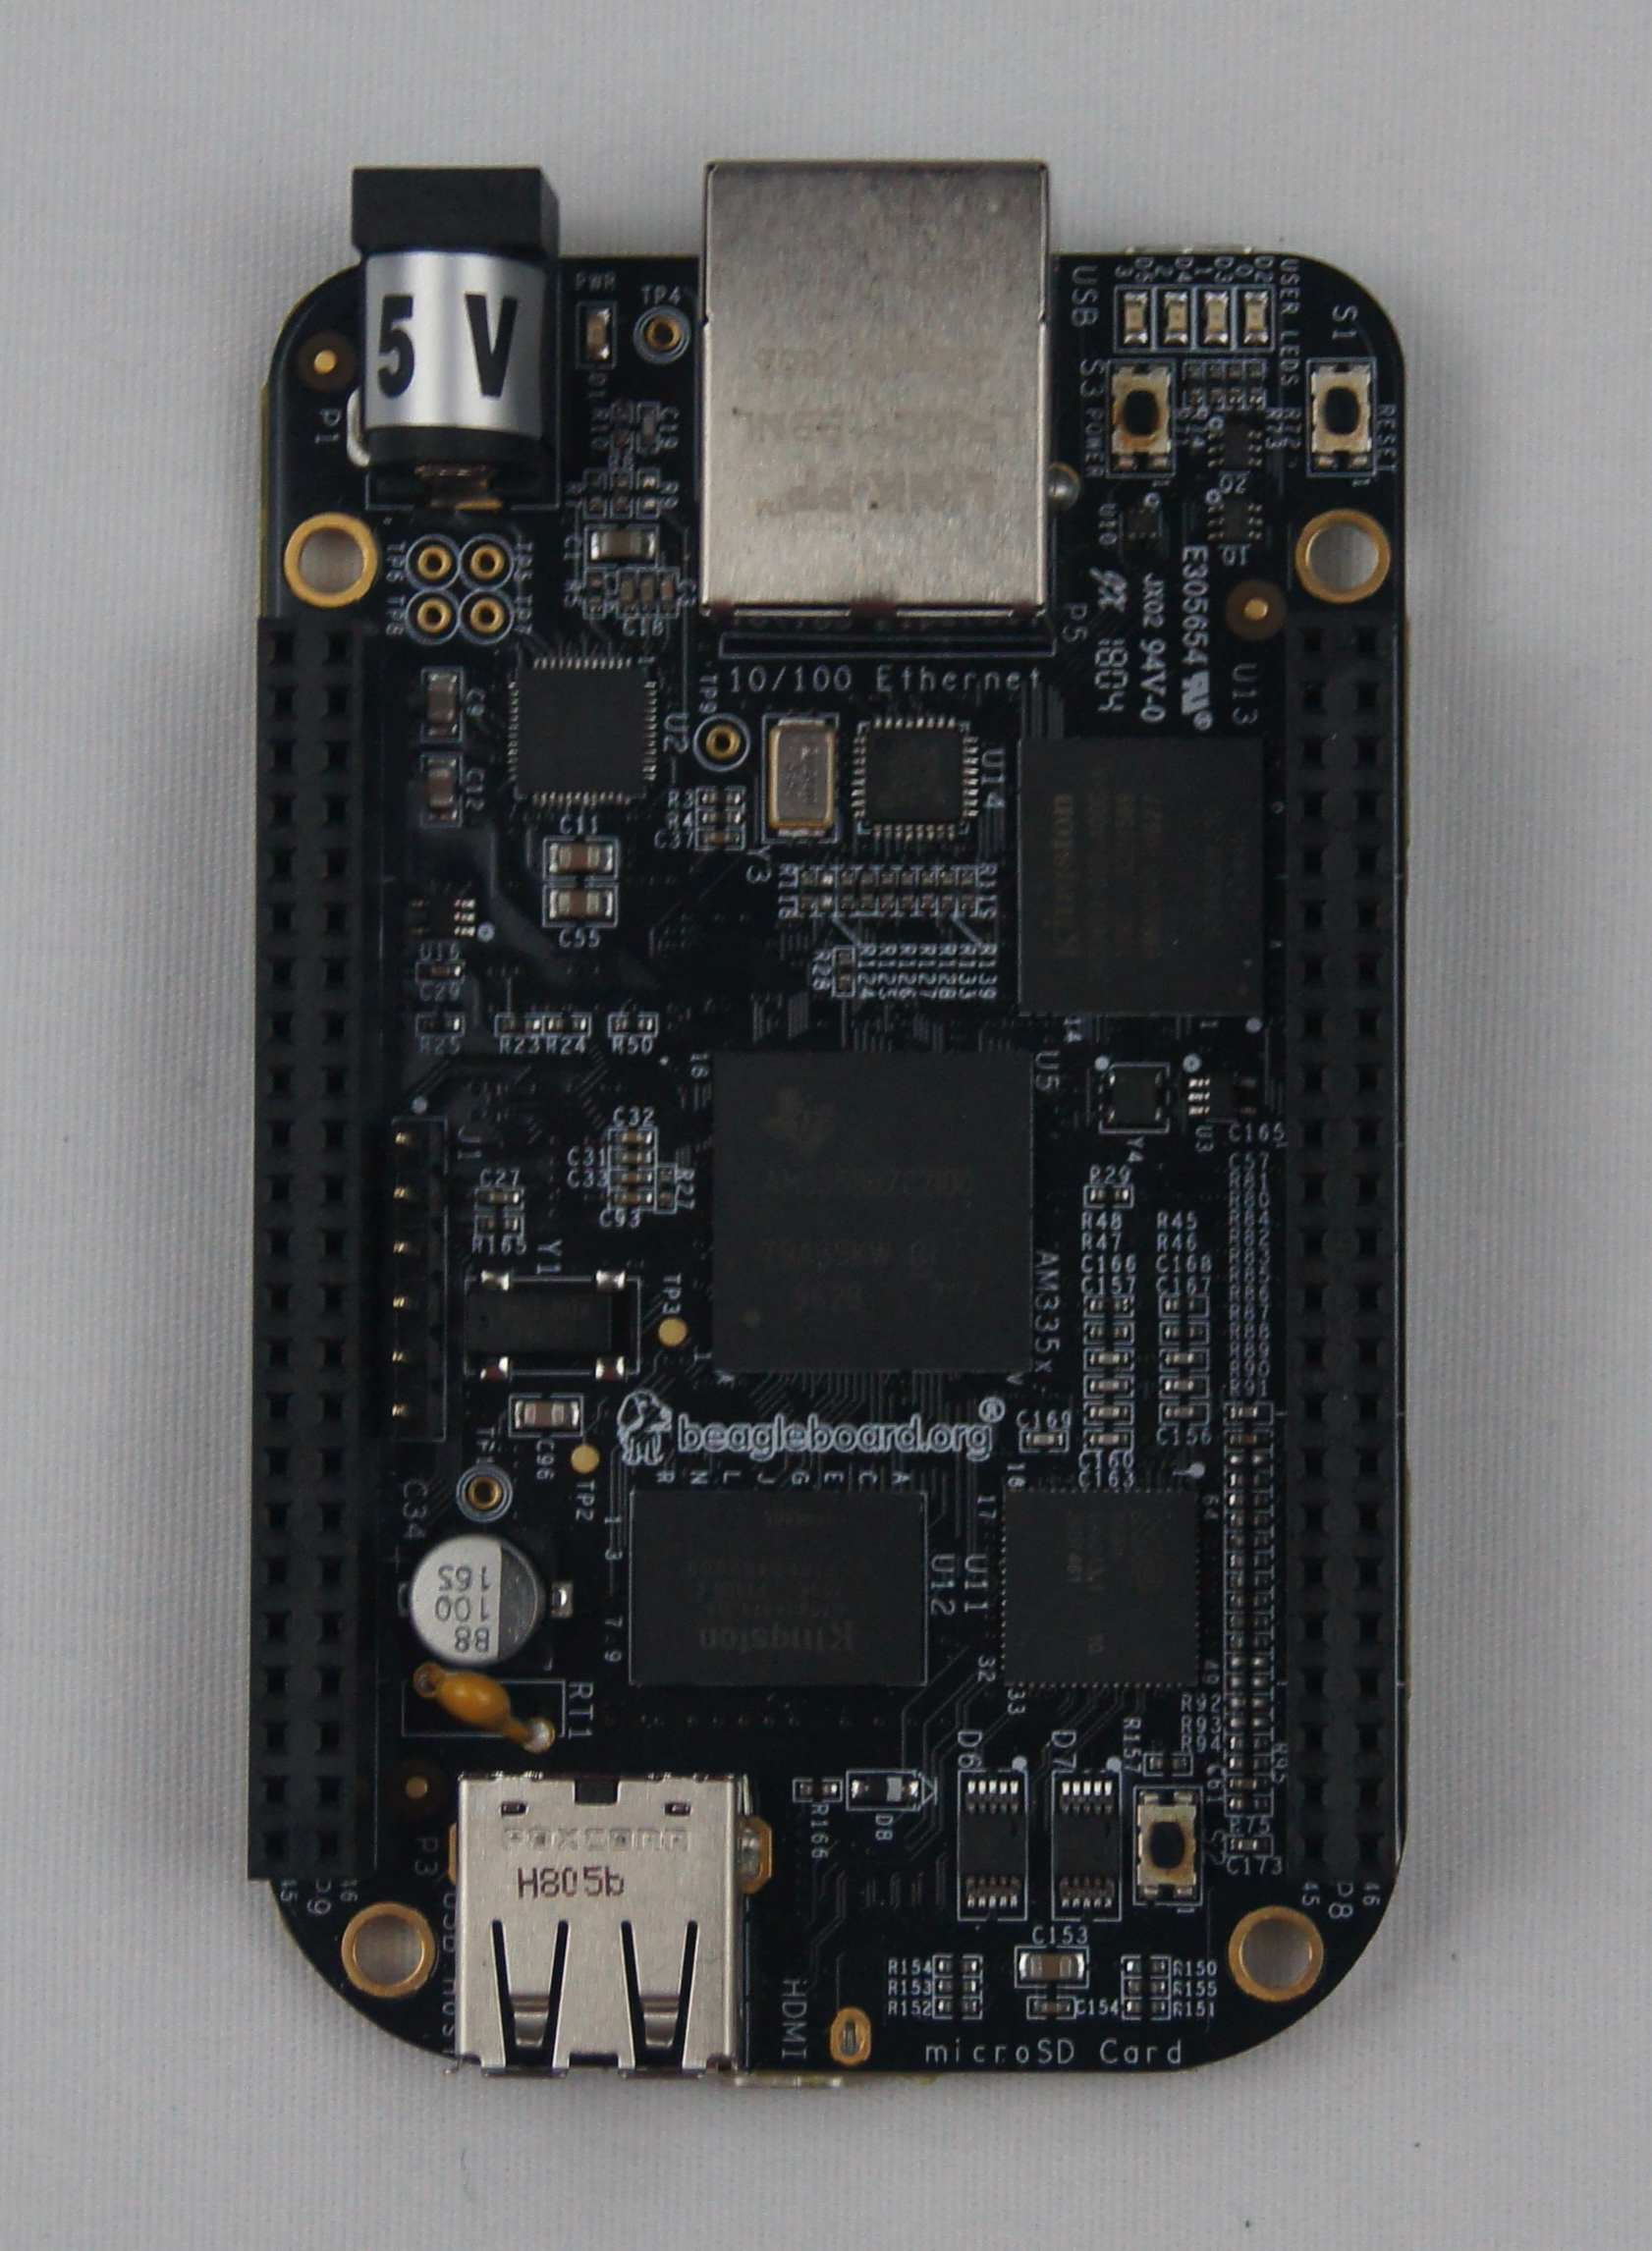resistor: (586, 470, 608, 514), (640, 472, 661, 516), (614, 1015, 656, 1035), (418, 1015, 460, 1035), (698, 788, 743, 806), (698, 809, 741, 827), (836, 947, 853, 991), (547, 1014, 586, 1033), (589, 571, 605, 613)
